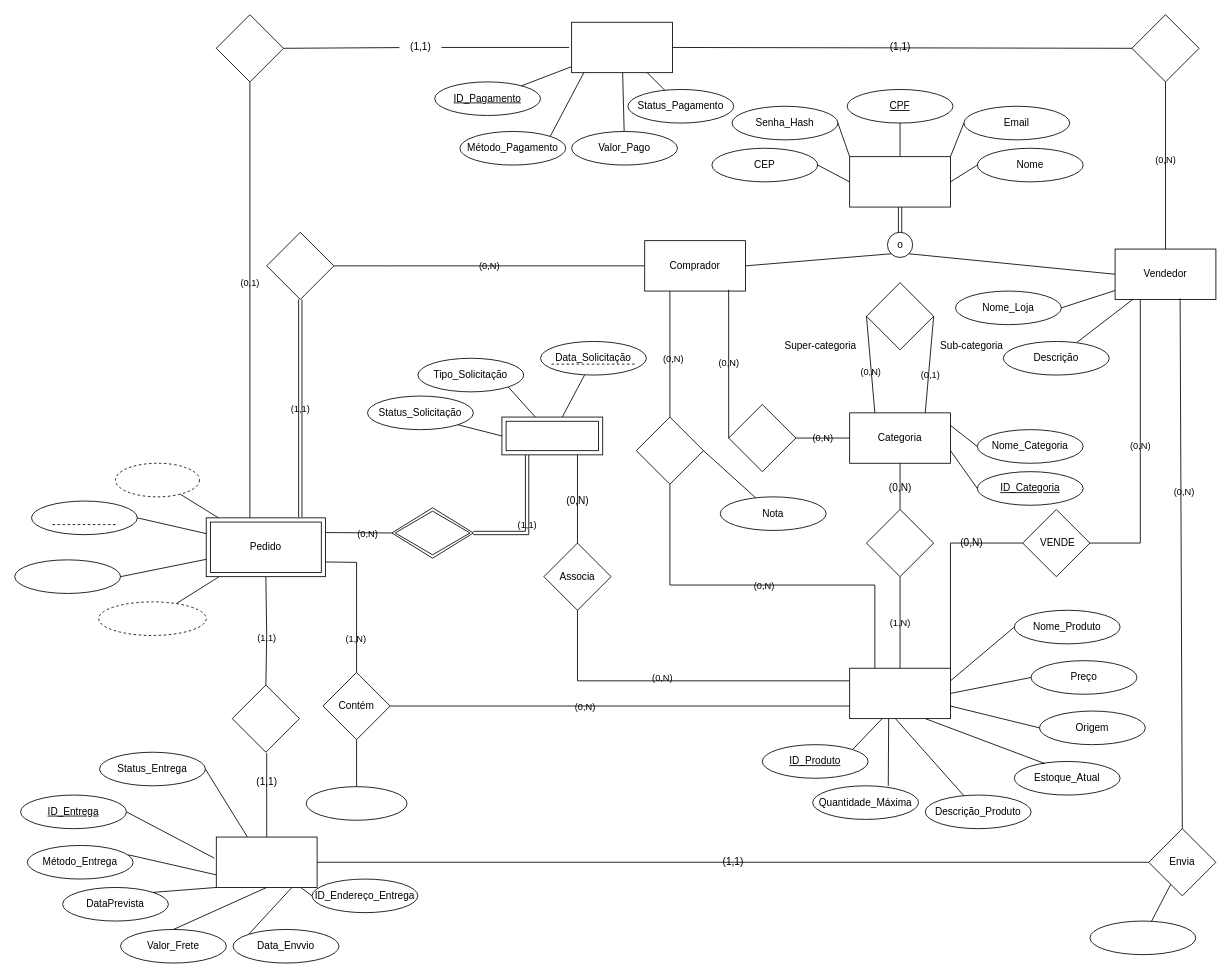
This 1231x978 diagram has some shape labels left out. Here are the shapes that lost their labels. From the top down, the centre of each, then its label:
At (249,48): "Paga".
At (621,47): "Pagamento".
At (1165,48): "Recebe".
At (899,181): "Usuario".
At (300,265): "FAZ".
At (900,316): "É PAI DE".
At (552,435): "Solicitação".
At (669,450): "AVALIA".
At (762,438): "PREFERE".
At (157,479): "Valor_Total".
At (84,517): "Data_Novo".
At (432,532): "tem".
At (900,543): "PERTENCE".
At (67,576): "Status_Pedido".
At (152,618): "Valor_Total_Produtos".
At (899,693): "Produto".
At (265,718): "PRECISA".
At (356,803): "Quantidade".
At (266,861): "Entrega".
At (1142,937): "Endereço".
